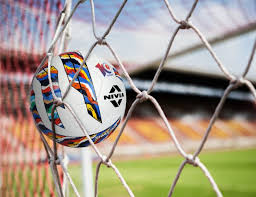football ball: (27, 47, 131, 150)
